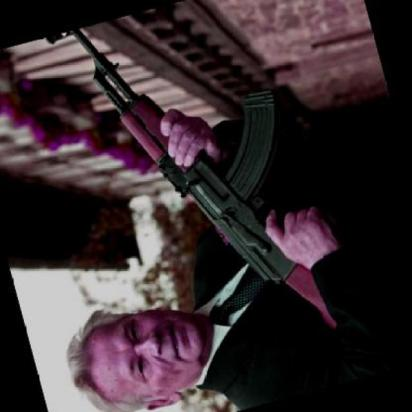Gun: (76, 0, 367, 307)
